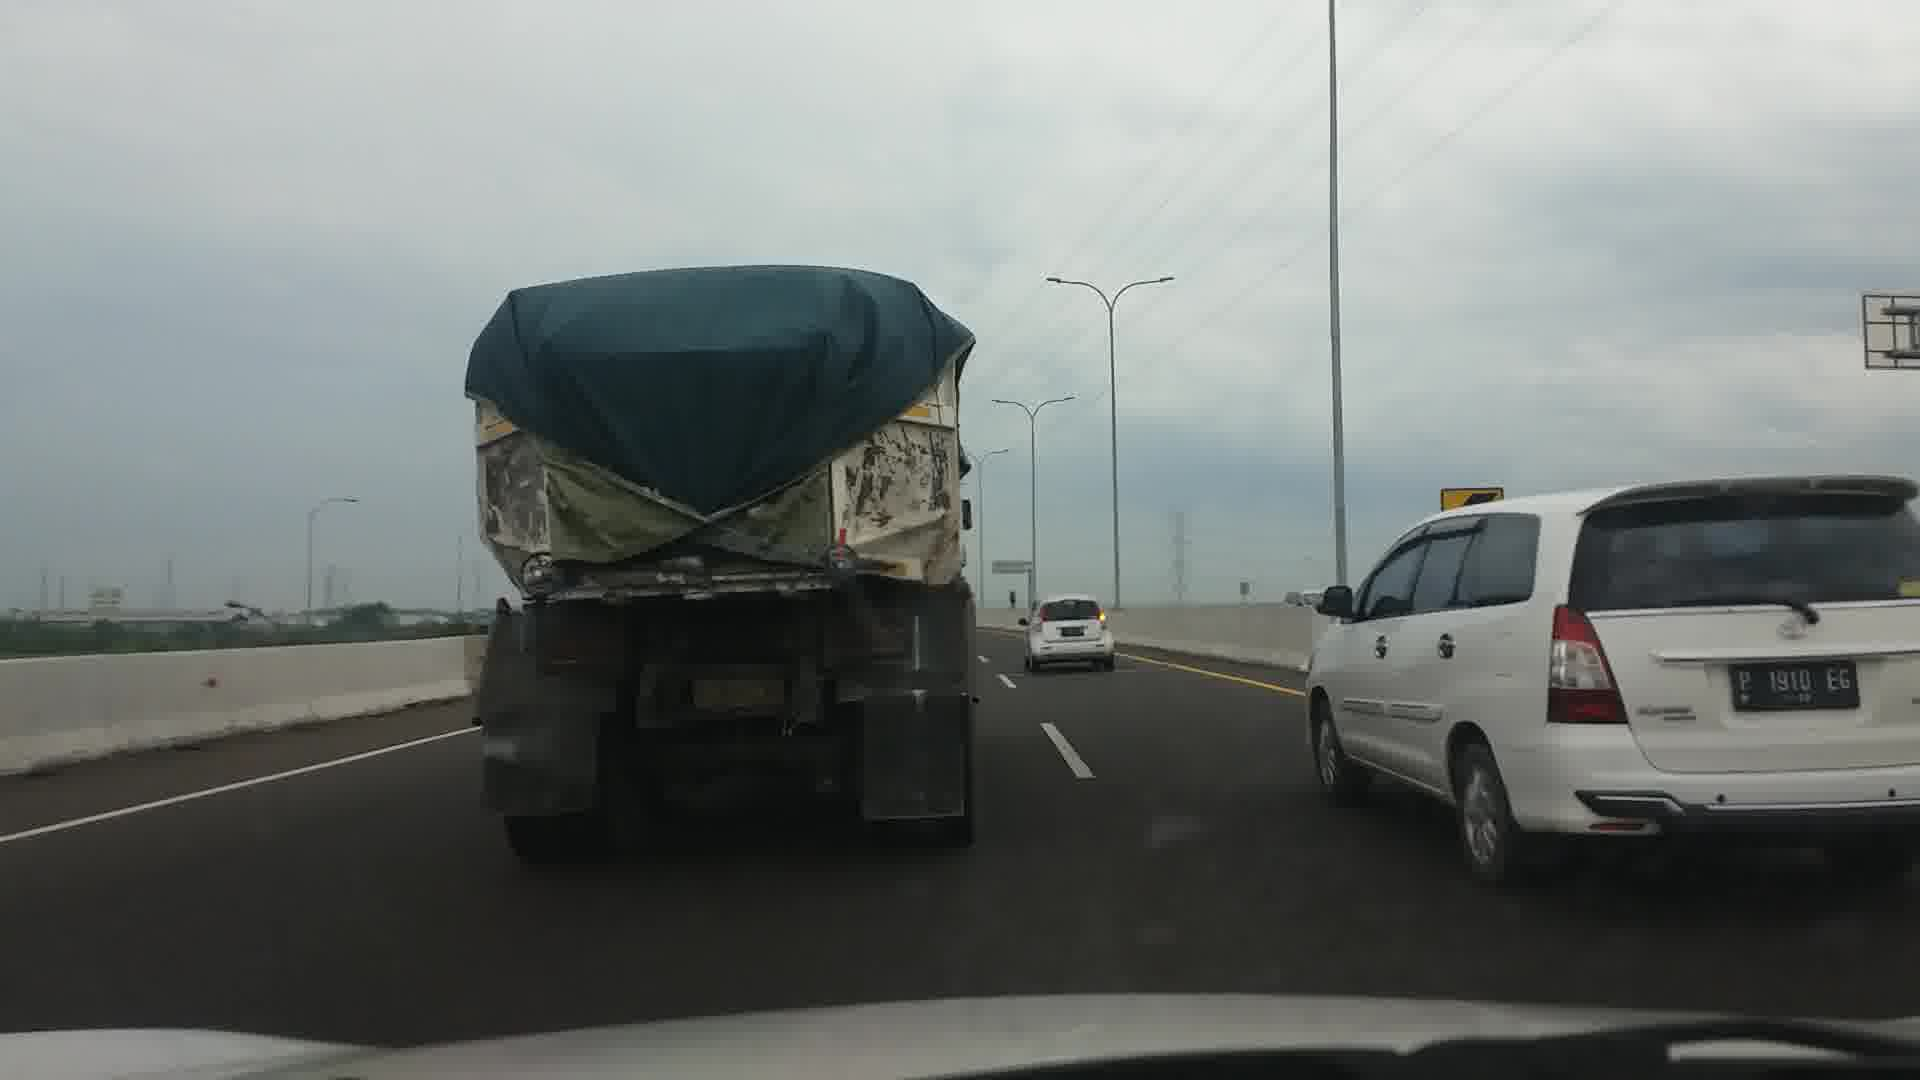plate_positive: (1731, 661, 1859, 709), (690, 679, 785, 704), (1060, 626, 1083, 637)
